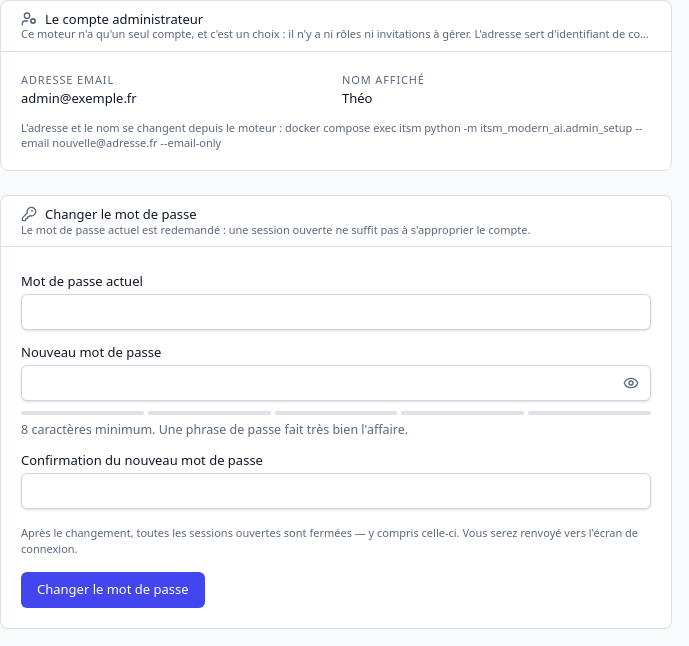
Test: Account — compte & sécurité › annonce la fermeture de TOUTES les sessions après un succès
Type "ancien-mot-passe" into the password field labelled "Mot de passe actuel" at point(336, 312), box [21, 294, 651, 330]
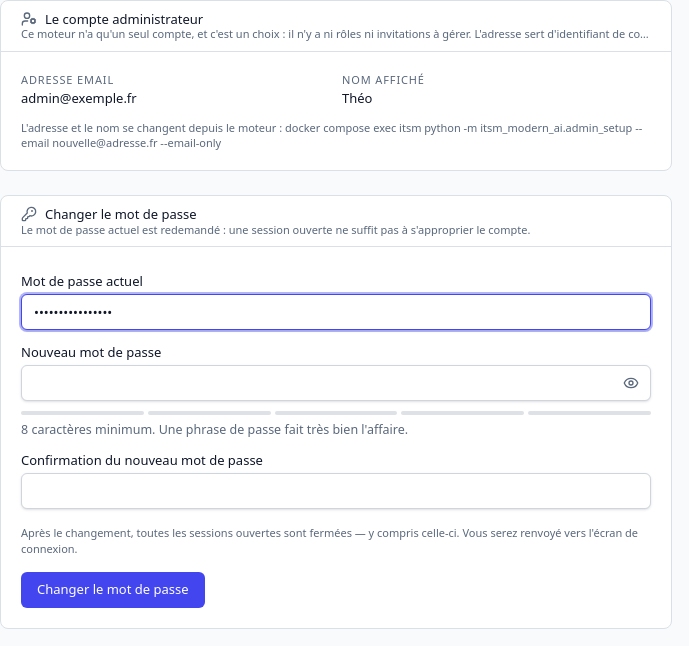
Type "n0uveau-mot-de-passe" into the password field labelled "Nouveau mot de passe" at point(336, 383), box [21, 365, 651, 401]
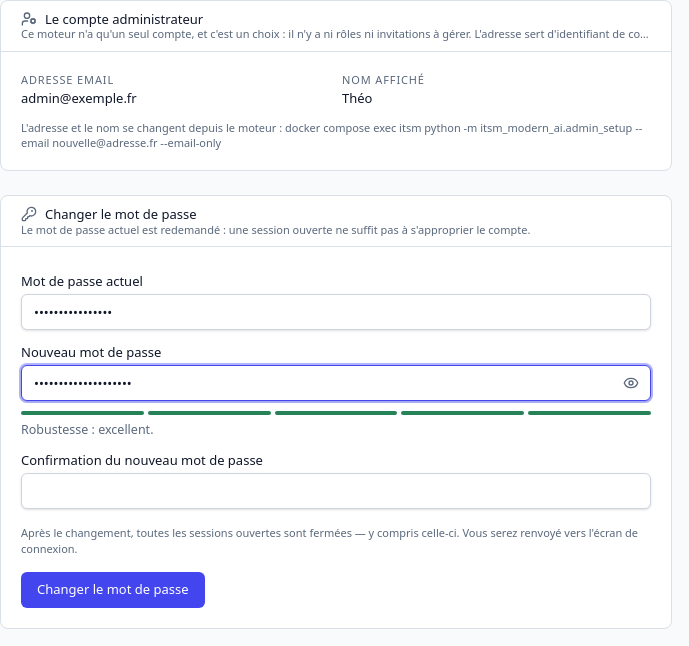
Type "n0uveau-mot-de-passe" into the password field labelled "Confirmation du nouveau mot de passe" at point(336, 491), box [21, 473, 651, 509]
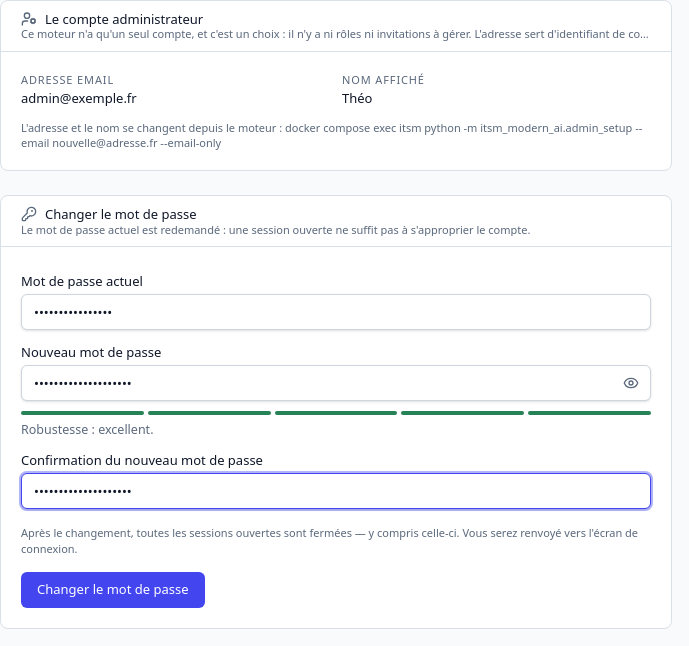
Click the button "Changer le mot de passe" at point(113, 590), box [21, 572, 205, 608]
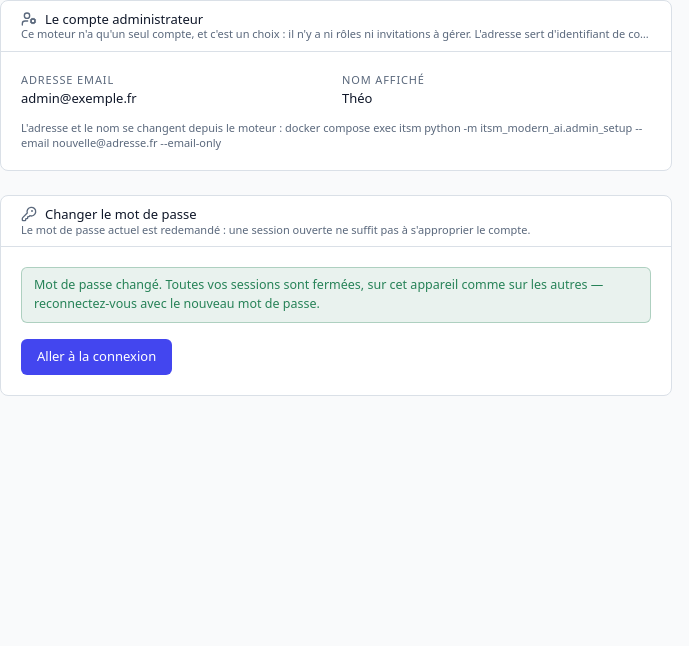
Check: the text "Toutes vos sessions sont fermées" is shown, box [34, 276, 603, 312]
